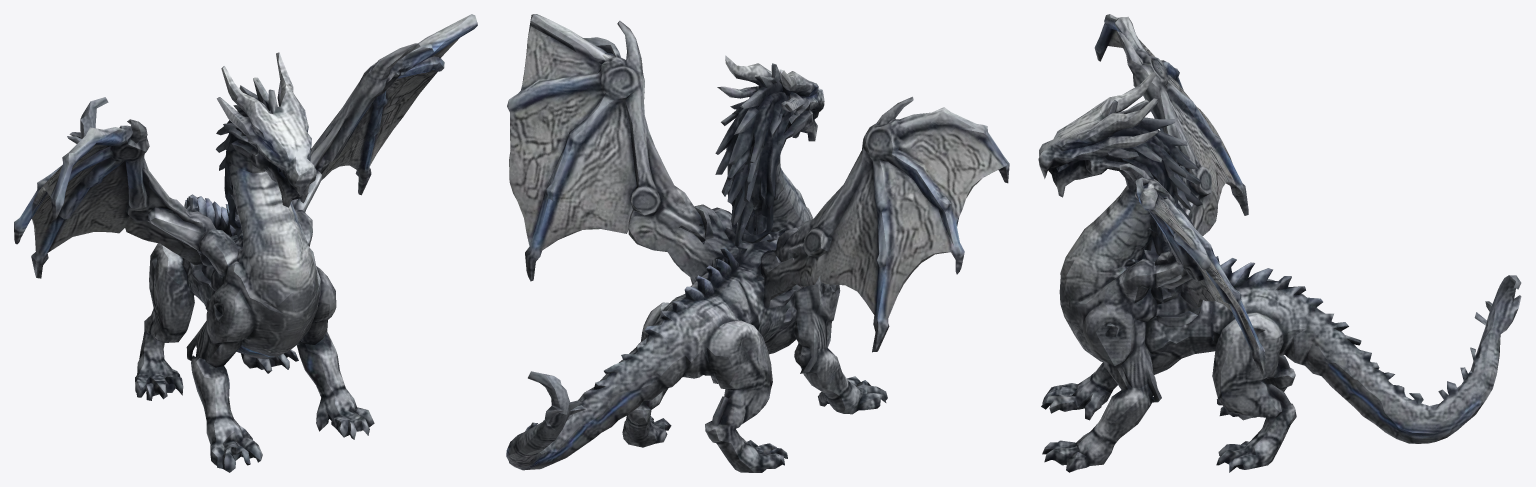
Rendered from forge-gallery-3.glb.
The picture shows the model from 3 angles, left to right: view 1: azimuth 30°, elevation 25°; view 2: azimuth 150°, elevation 25°; view 3: azimuth 270°, elevation 25°; orthographic projection. The views are drawn at different scales.
Visible parts, largest first — view 1: world; view 2: world; view 3: world.
Boxes of the visible parts, x1,y1,x2,y2 form: world: (14,14,477,472); world: (506,14,1009,472); world: (1038,14,1521,472).
Size of the model in its own units: 1 by 0.766 by 0.9488.
Materials: 1 (1 with a texture image).
